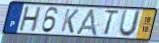6: (40, 6, 60, 34)
A: (74, 8, 99, 37)
H: (17, 6, 43, 34)
K: (59, 8, 80, 35)
T: (103, 10, 121, 37)
U: (117, 9, 143, 39)
